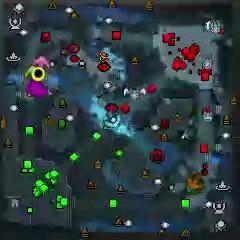p3: (26, 81, 48, 96)
p4Clone: (32, 67, 46, 81)
x1: (34, 56, 49, 68)
x2: (25, 65, 35, 78)
x3: (104, 110, 121, 128)
x4: (185, 179, 201, 195)
x5: (187, 173, 203, 189)
